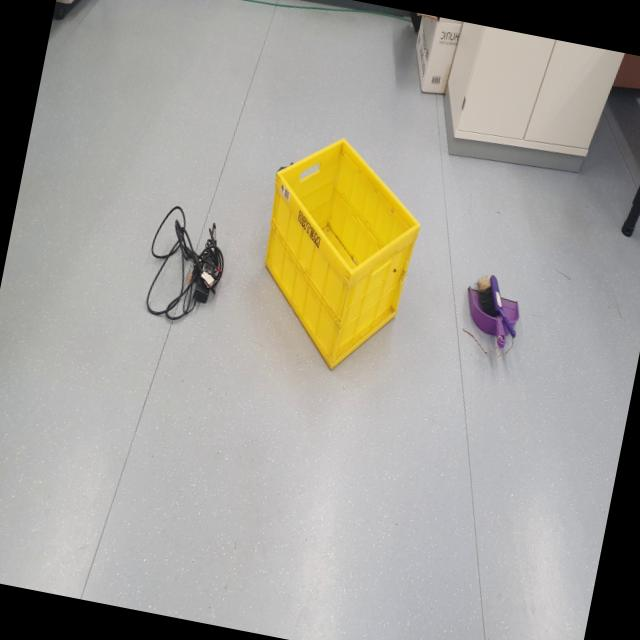box: (236, 124, 447, 392)
